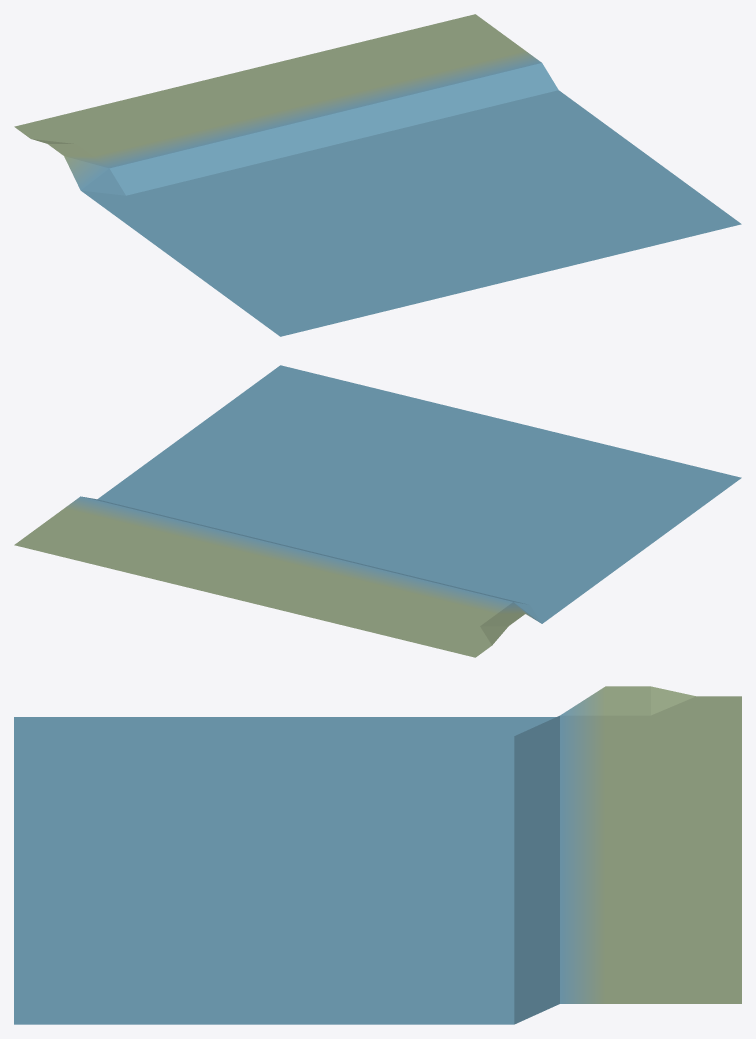
3 renders of one model, top to bottom at view 1: azimuth 30°, elevation 25°; view 2: azimuth 150°, elevation 25°; view 3: azimuth 270°, elevation 25°, orthographic. The views are drawn at different scales.
Bounding box in the file's own units: 32 × 1.48 × 32.
